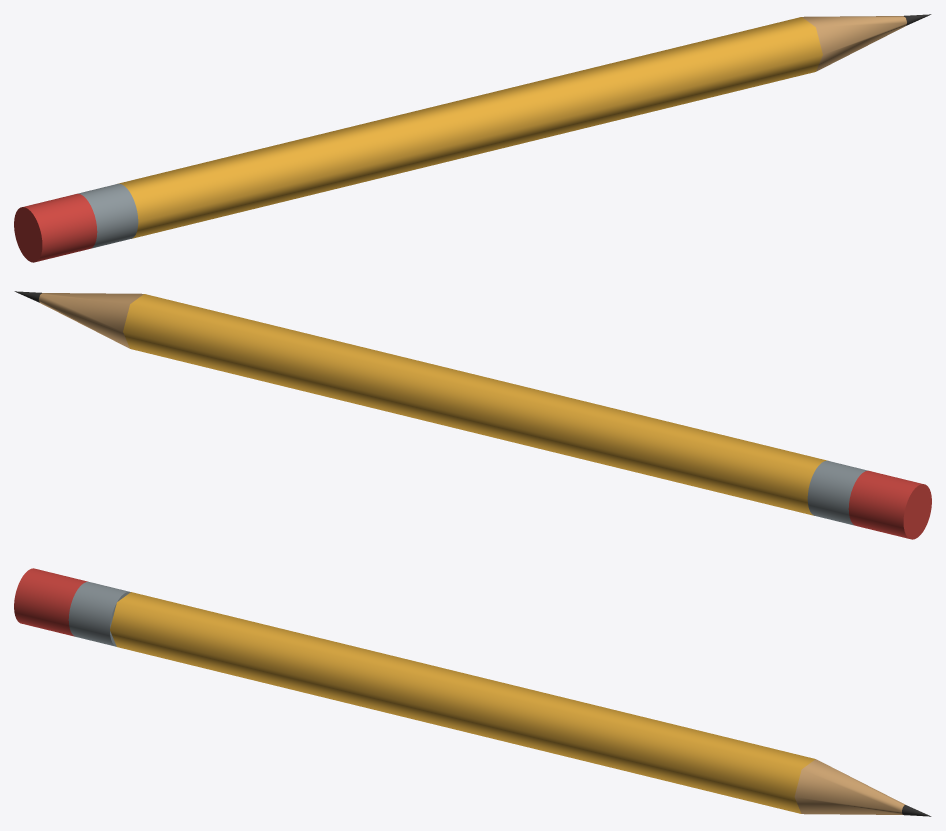
Rendered from pencil-red-visible.glb.
The picture shows the model from 3 angles, top to bottom: view 1: azimuth 30°, elevation 25°; view 2: azimuth 150°, elevation 25°; view 3: azimuth 330°, elevation 25°; orthographic projection.
Parts seen in each view (by area): view 1: Refined_Pencil_Shaft, Refined_Pencil_Eraser, Refined_Pencil_Wood, Refined_Pencil_Ferrule; view 2: Refined_Pencil_Shaft, Refined_Pencil_Eraser, Refined_Pencil_Wood, Refined_Pencil_Ferrule; view 3: Refined_Pencil_Shaft, Refined_Pencil_Wood, Refined_Pencil_Eraser, Refined_Pencil_Ferrule.
Boxes of the visible parts, left/top/right/bottom form: Refined_Pencil_Shaft: left=117, top=17, right=822, bottom=238; Refined_Pencil_Eraser: left=14, top=193, right=97, bottom=262; Refined_Pencil_Wood: left=802, top=16, right=906, bottom=71; Refined_Pencil_Ferrule: left=78, top=183, right=138, bottom=248; Refined_Pencil_Shaft: left=123, top=294, right=828, bottom=515; Refined_Pencil_Eraser: left=848, top=470, right=931, bottom=539; Refined_Pencil_Wood: left=39, top=293, right=143, bottom=348; Refined_Pencil_Ferrule: left=807, top=460, right=867, bottom=525; Refined_Pencil_Shaft: left=110, top=592, right=815, bottom=813; Refined_Pencil_Wood: left=794, top=759, right=905, bottom=814; Refined_Pencil_Eraser: left=14, top=568, right=87, bottom=636; Refined_Pencil_Ferrule: left=68, top=581, right=130, bottom=646.
Bounding box in the file's own units: 0.198 × 0.0108 × 0.0108.
